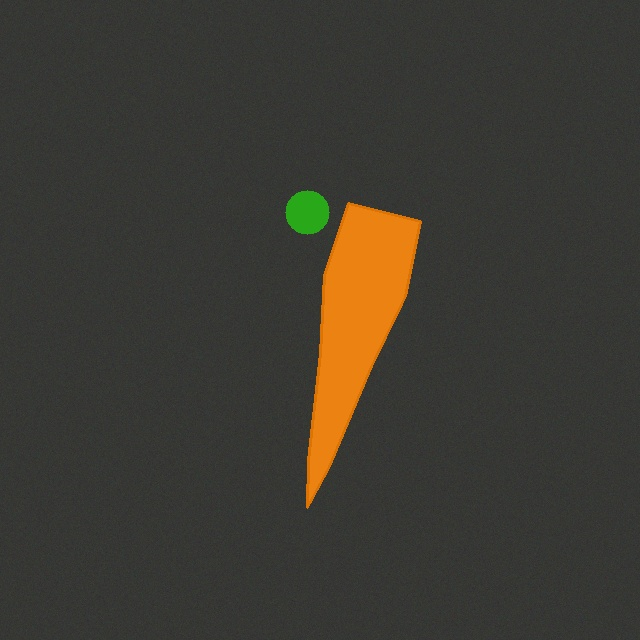Good_Carrot: (299, 195, 428, 515)
